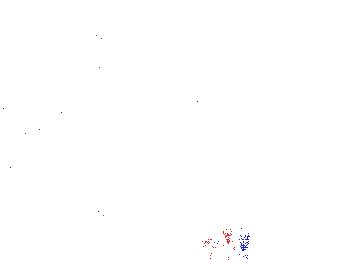flame jellyfish: (206, 196, 282, 254), (20, 73, 65, 141), (94, 177, 148, 222)
